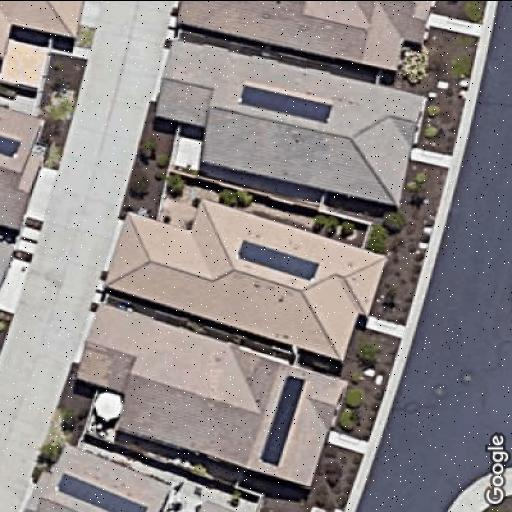solar-panel: (259, 372, 307, 468), (238, 82, 332, 124), (236, 238, 320, 284), (58, 471, 148, 512), (0, 134, 23, 160)
